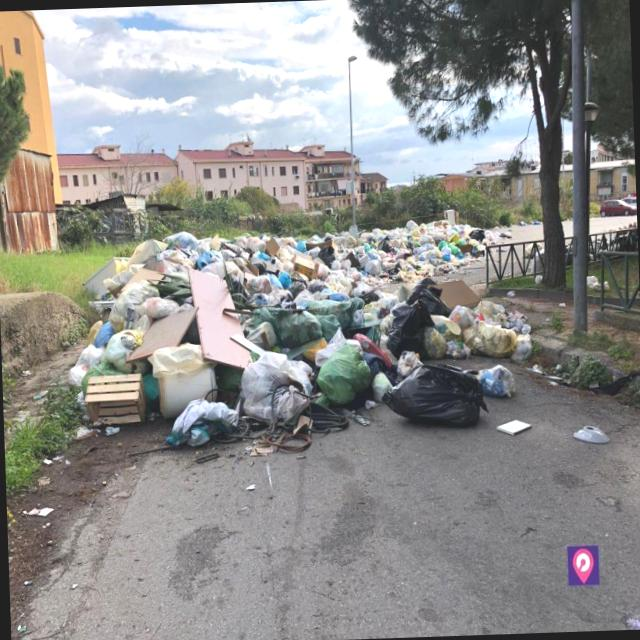garbage: (61, 197, 533, 478)
